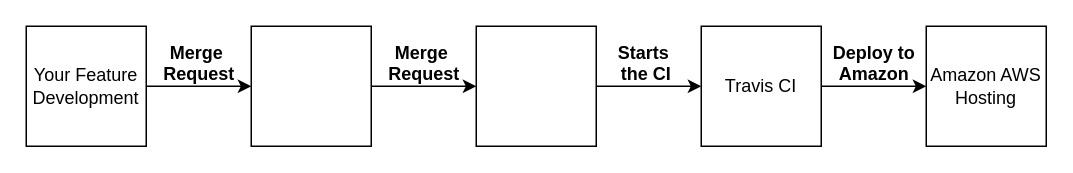
This 1073x173 diagram has some shape labels left out. Here are the shapes that lost their labels. From the top down, the box of each, then its label:
(250, 25, 371, 146): Development Branch
(475, 25, 596, 146): Master Branch
